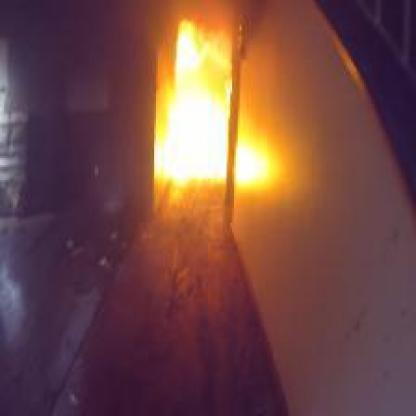fire: (154, 25, 228, 188)
other: (233, 133, 274, 192)
